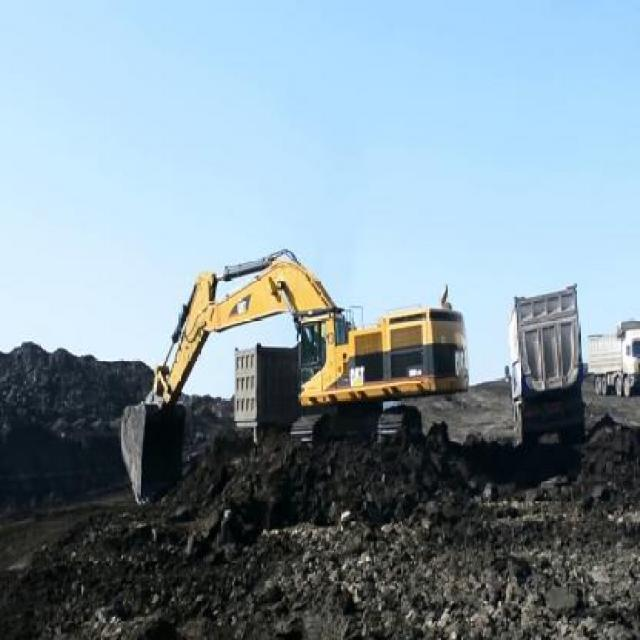Dump Truck: (507, 288, 582, 447), (230, 336, 304, 438), (586, 318, 640, 399)
Excavator: (117, 242, 472, 510)
